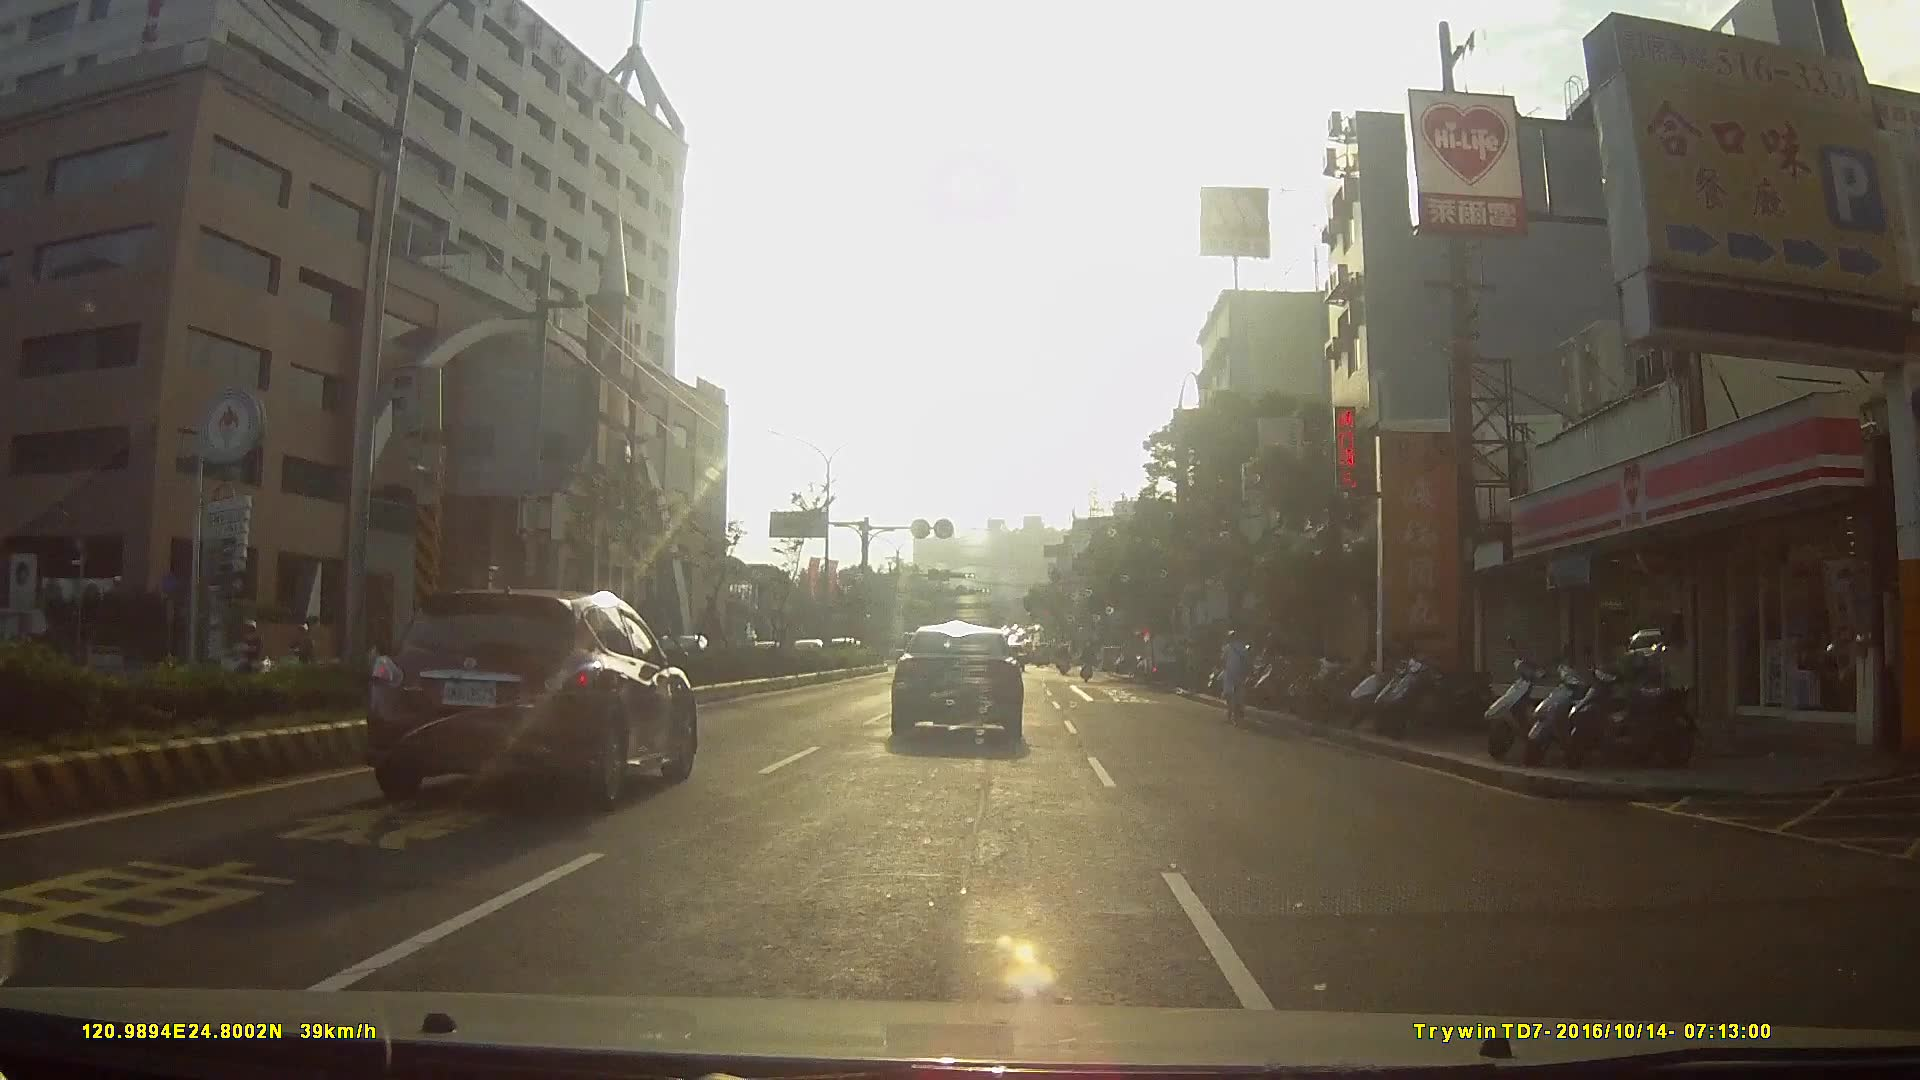rider: (222, 618, 277, 691), (1217, 630, 1257, 723), (282, 614, 323, 688)
vehicle: (356, 570, 715, 806), (888, 615, 1039, 748), (1138, 624, 1199, 684), (763, 607, 822, 662)
